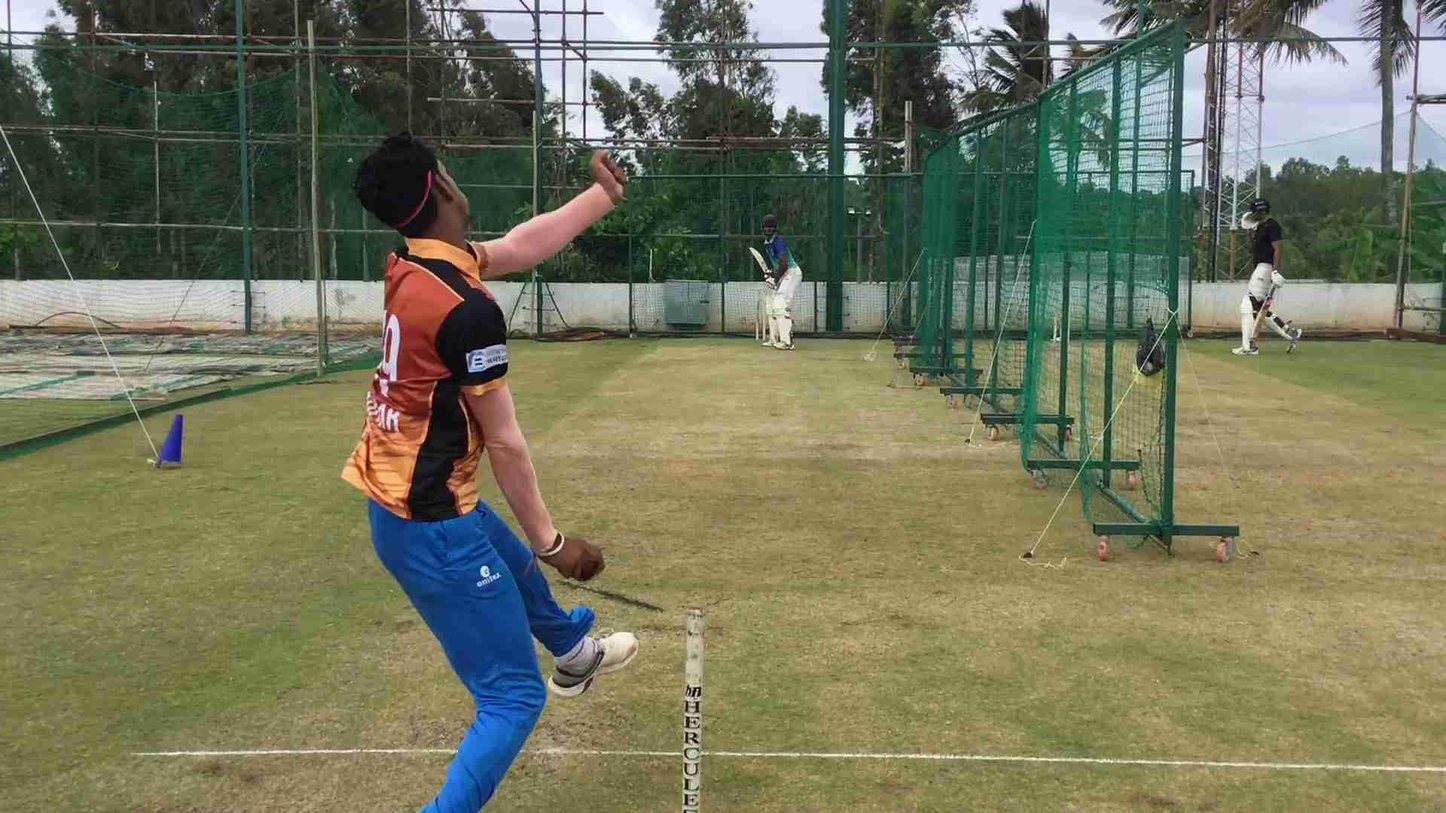batsman: (754, 210, 807, 356)
